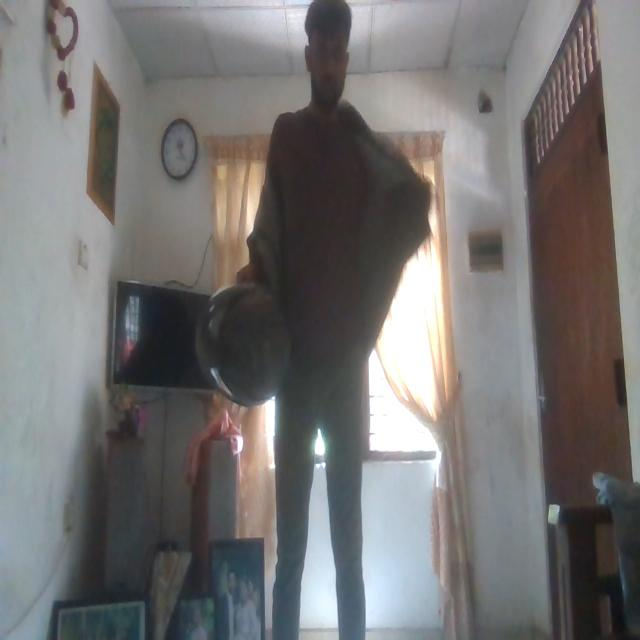Jacket_Wearer: (250, 84, 432, 398)
Person: (250, 4, 380, 626)
